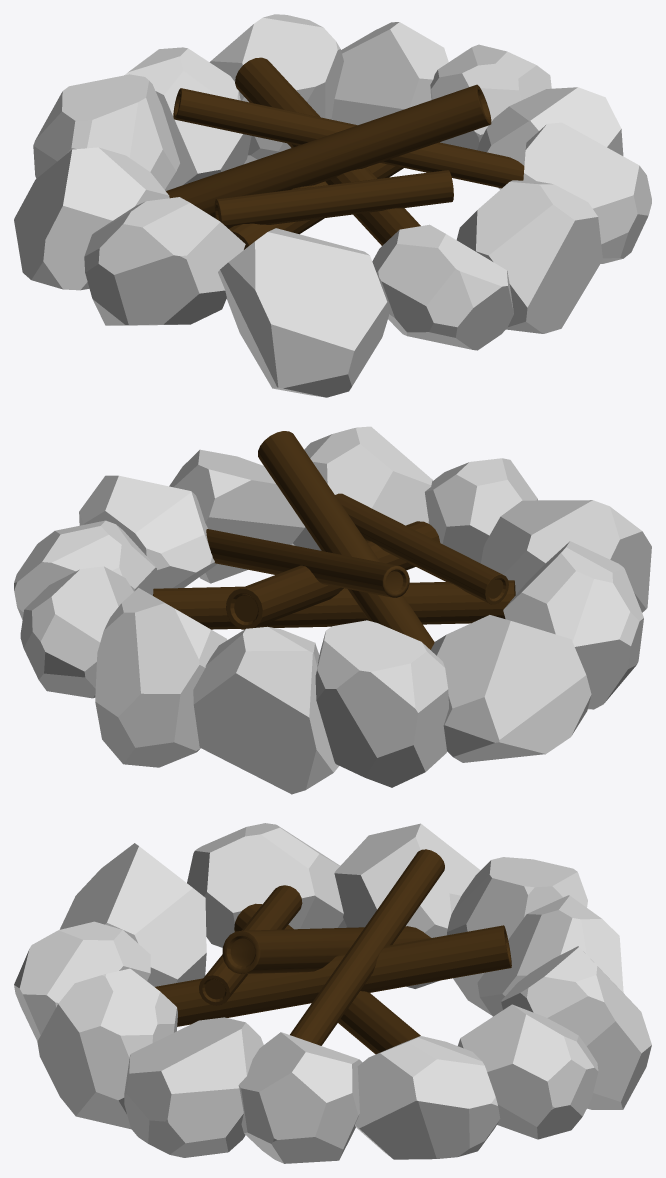
Rendered from campfire.fbx.
3 views of the same model, one above another, from view 1: azimuth 30°, elevation 25°; view 2: azimuth 150°, elevation 25°; view 3: azimuth 270°, elevation 25° (orthographic).
Parts seen in each view (by area): view 1: Rocks, Sticks; view 2: Rocks, Sticks; view 3: Rocks, Sticks.
Part boxes in pixels (x1,y1,x2,y2): Rocks: (14,14,651,397); Sticks: (166,57,524,249); Rocks: (14,426,651,794); Sticks: (153,431,515,649); Rocks: (14,823,651,1163); Sticks: (155,849,511,1054).
Bounding box in the file's own units: 245 × 88.07 × 248.
